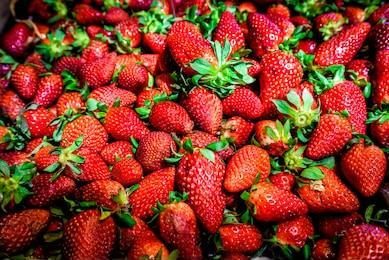Fresa: (173, 142, 229, 235), (295, 161, 363, 218), (254, 47, 309, 115), (164, 28, 230, 84), (247, 174, 311, 228), (154, 195, 206, 260), (124, 163, 180, 223), (339, 136, 389, 200), (312, 21, 372, 72), (241, 8, 296, 59), (303, 110, 355, 163), (222, 141, 274, 194), (1, 205, 53, 254), (60, 142, 113, 186), (184, 84, 226, 139), (145, 93, 196, 138), (101, 102, 152, 143), (209, 8, 250, 59), (213, 219, 267, 254), (77, 49, 118, 91), (274, 212, 316, 252), (8, 59, 40, 102)
